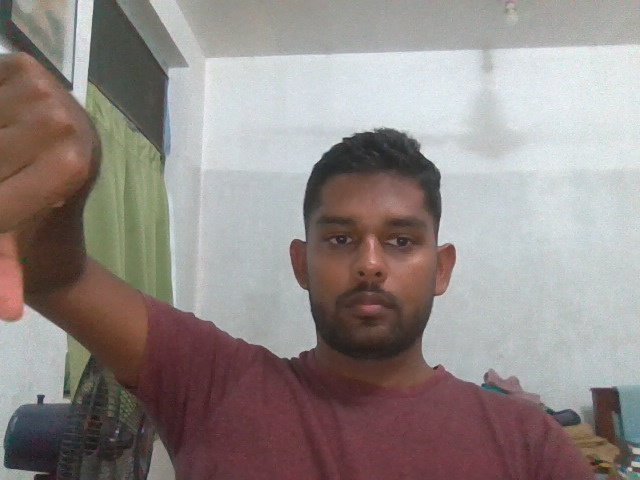dontlike: (1, 37, 105, 325)
